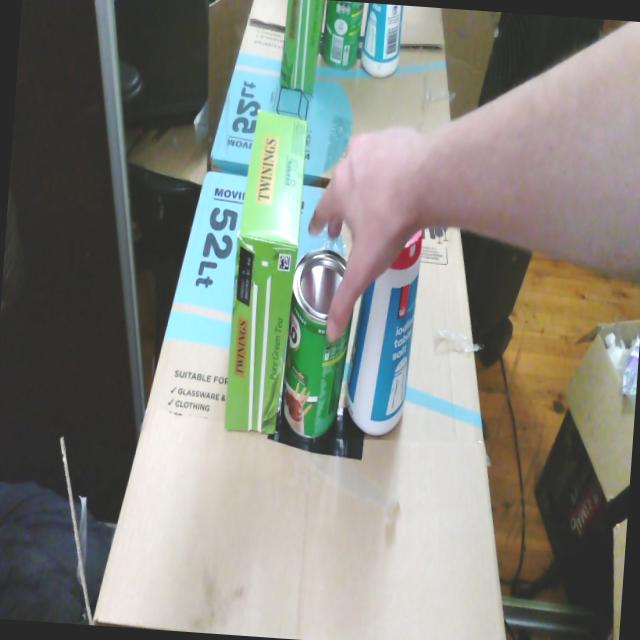nestle_milo_tin: (280, 248, 353, 441)
twinings_greentea_box: (224, 109, 307, 434)
woolworths_salt_bottle: (345, 228, 424, 435)
